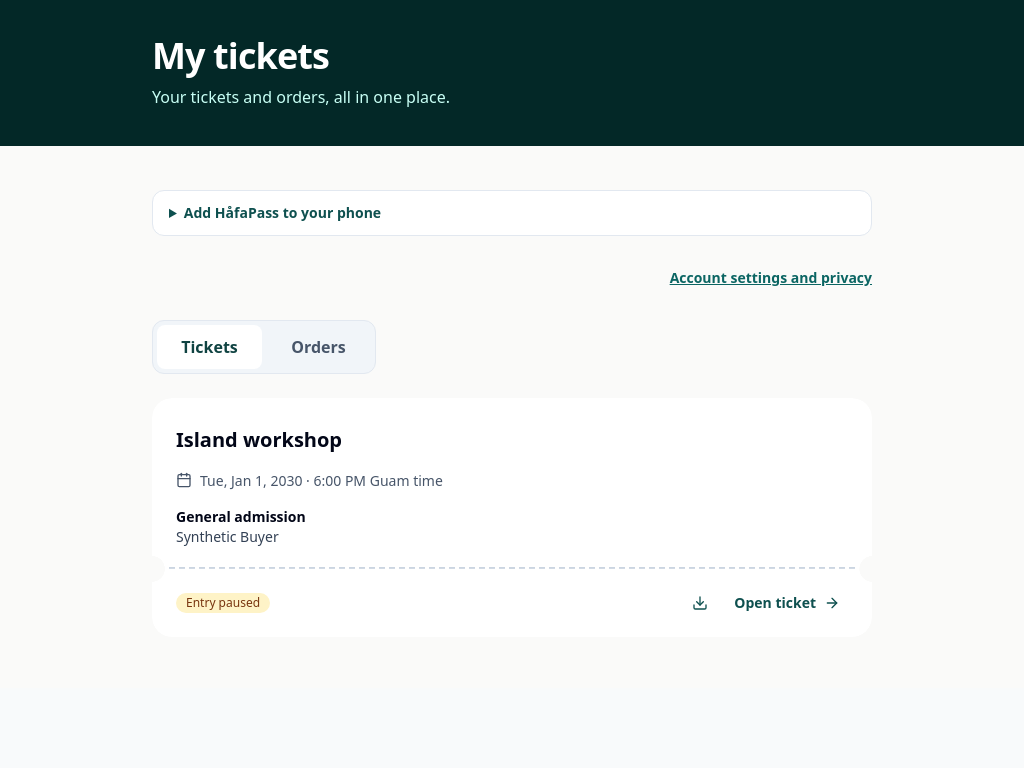
it: MyTicketsPage session refresh through the real API client › refreshes and retries the orders request after a 401
Expected: the link "Island workshop" is shown, [176,418,342,462]
Click the tab "Orders": (318, 347) [266,325,371,369]
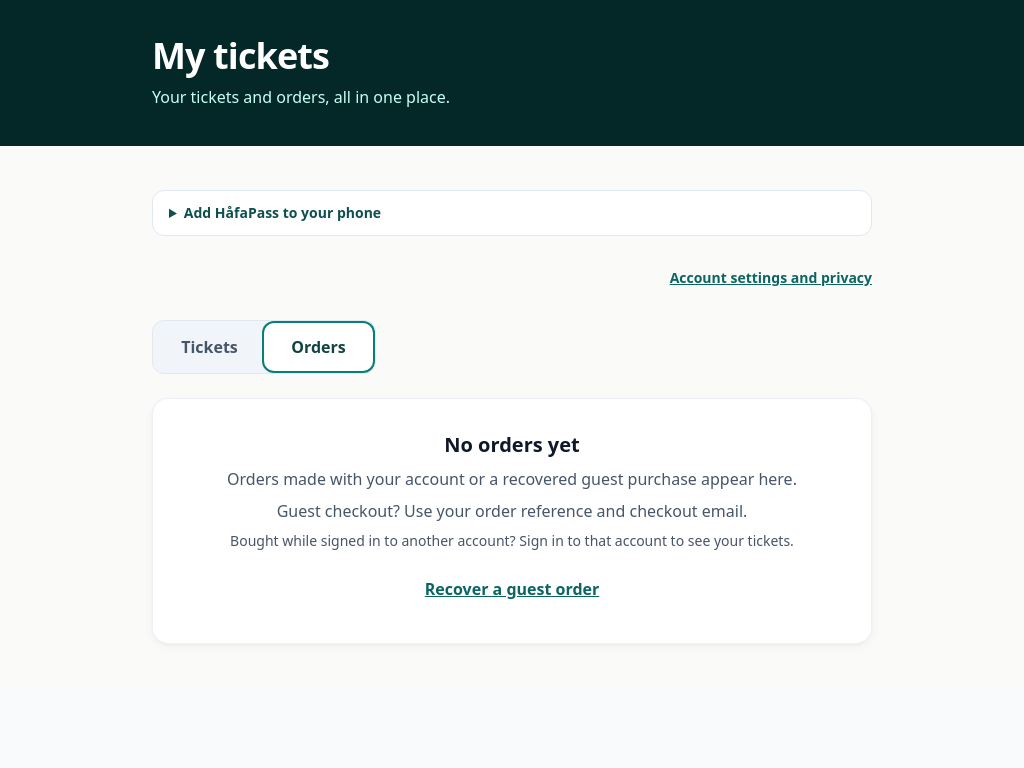
Now the heading "No orders yet" is shown, box [444,431,580,458]
